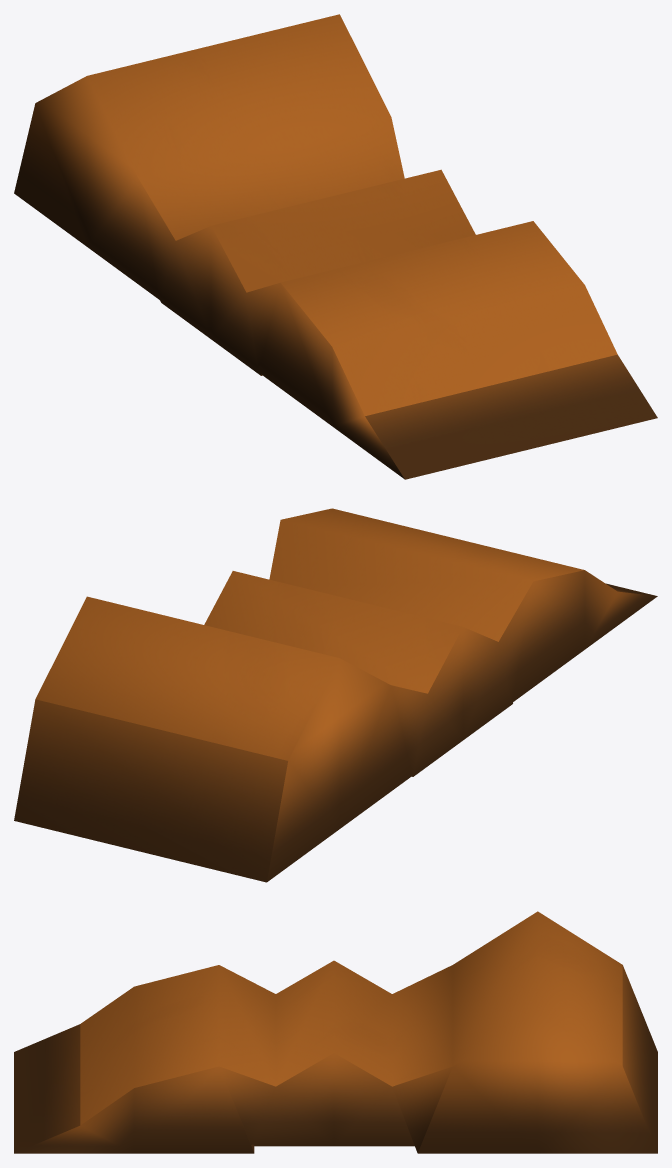
Rendered from Mud.fbx.
3 views of the same model, one above another, from view 1: azimuth 30°, elevation 25°; view 2: azimuth 150°, elevation 25°; view 3: azimuth 270°, elevation 25° (orthographic). The views are drawn at different scales.
Visible parts, largest first — view 1: mud:pCylinder4; view 2: mud:pCylinder4; view 3: mud:pCylinder4.
Boxes of the visible parts, left/top/right/bottom form: mud:pCylinder4: left=14, top=14, right=657, bottom=479; mud:pCylinder4: left=14, top=508, right=657, bottom=882; mud:pCylinder4: left=14, top=911, right=657, bottom=1153.
Size of the model in its own units: 2 by 1.31 by 5.36.
